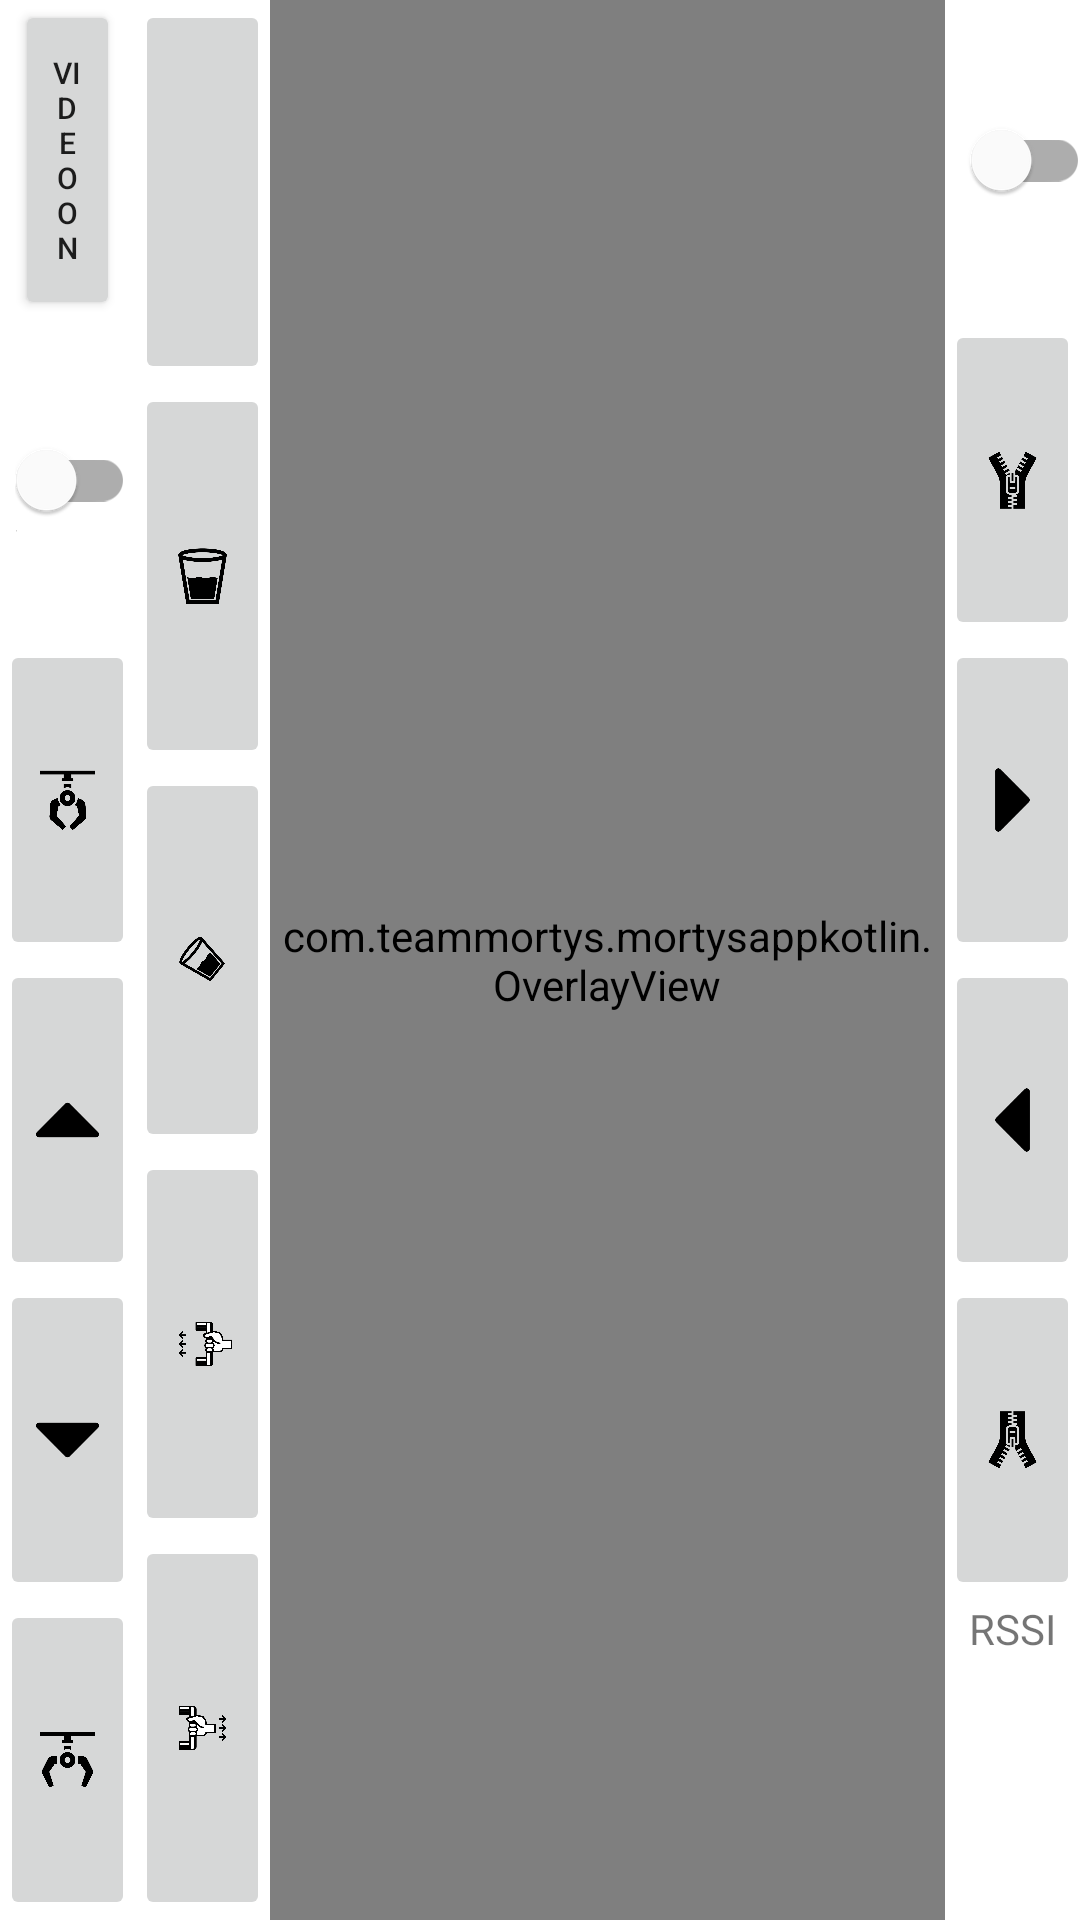

Icons on this 1080 × 1920 Android screen, each with the point to tap as point (x, y):
btn cremallera bajar: point (1012, 1440)
btn cremallera subir: point (1012, 480)
btn down: point (67, 1440)
btn garra abrir: point (67, 1760)
btn garra cerrar: point (67, 800)
btn letf: point (1012, 1120)
btn meter base: point (202, 1728)
btn right: point (1012, 800)
btn sacar base: point (202, 1344)
btn up: point (67, 1120)
btn vaciar down: point (202, 960)
btn vaciar up: point (202, 576)
